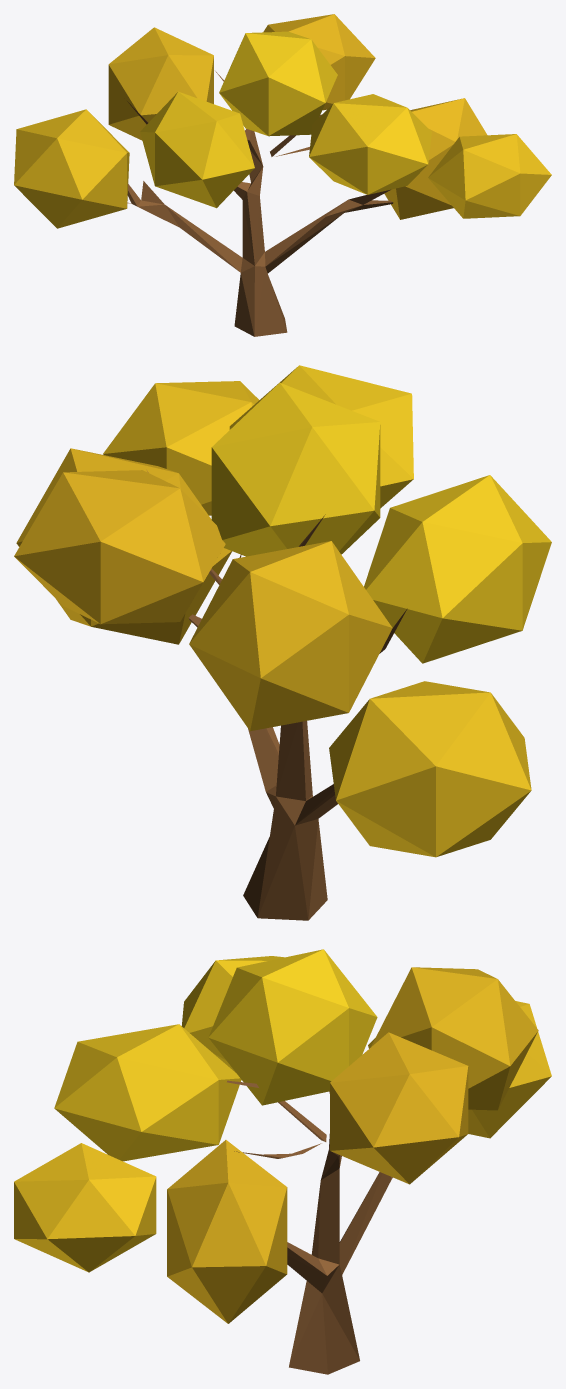
File: guayacan_1_bloom_far.glb
3 views of the same model, one above another, from view 1: azimuth 30°, elevation 25°; view 2: azimuth 150°, elevation 25°; view 3: azimuth 270°, elevation 25° (orthographic). The views are drawn at different scales.
Parts seen in each view (by area): view 1: guayacan_1_bloom_far; view 2: guayacan_1_bloom_far; view 3: guayacan_1_bloom_far.
Boxes of the visible parts, bbox=[...] form: guayacan_1_bloom_far: bbox=[14, 14, 551, 336]; guayacan_1_bloom_far: bbox=[14, 365, 551, 920]; guayacan_1_bloom_far: bbox=[14, 949, 551, 1374].
Size of the model in its own units: 8.5 by 6.21 by 7.59.
